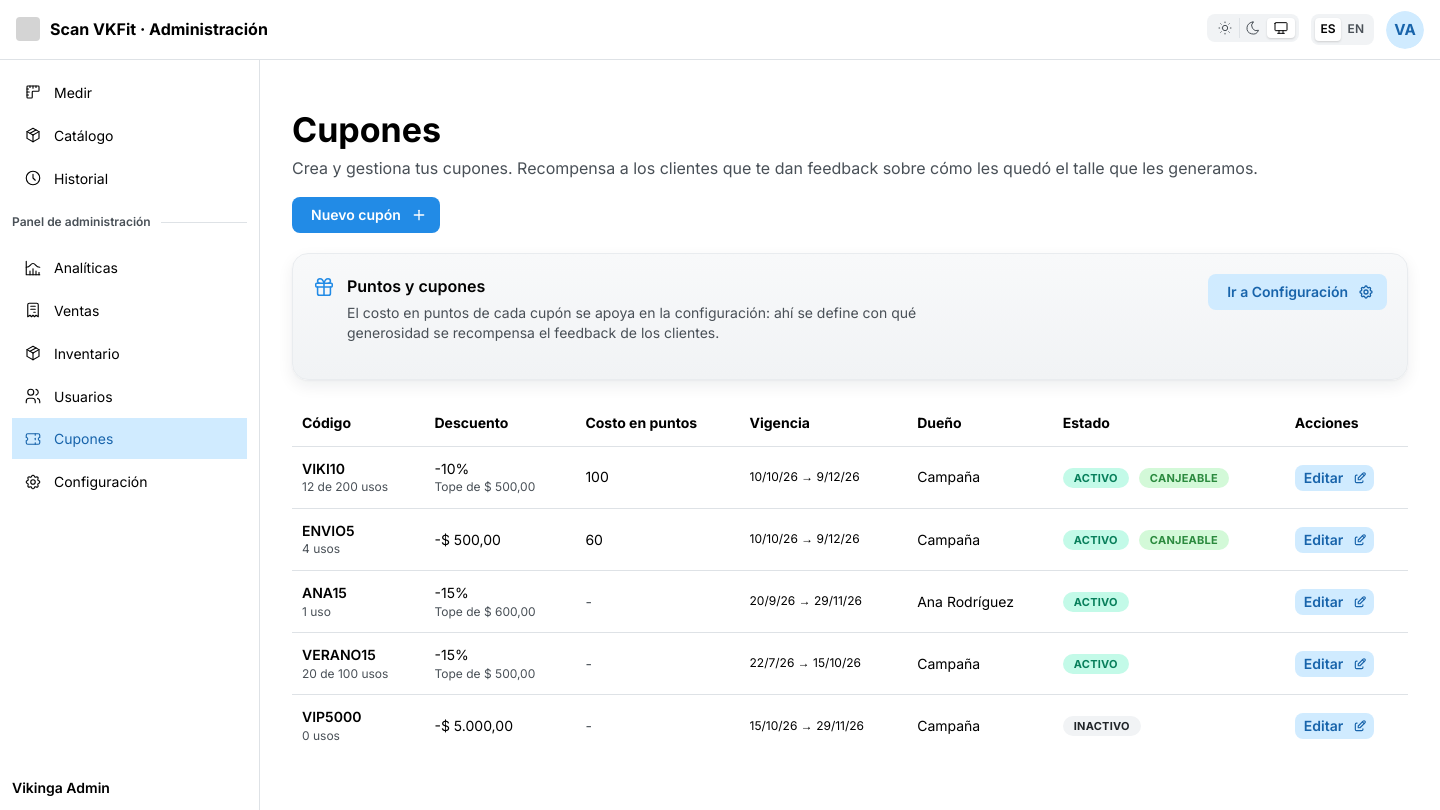
cupones › la edición abre con el código del cupón cargado
Click the button with aria-label "Editar cupón ENVIO5".
click(1334, 540)  # box [1295, 527, 1374, 553]
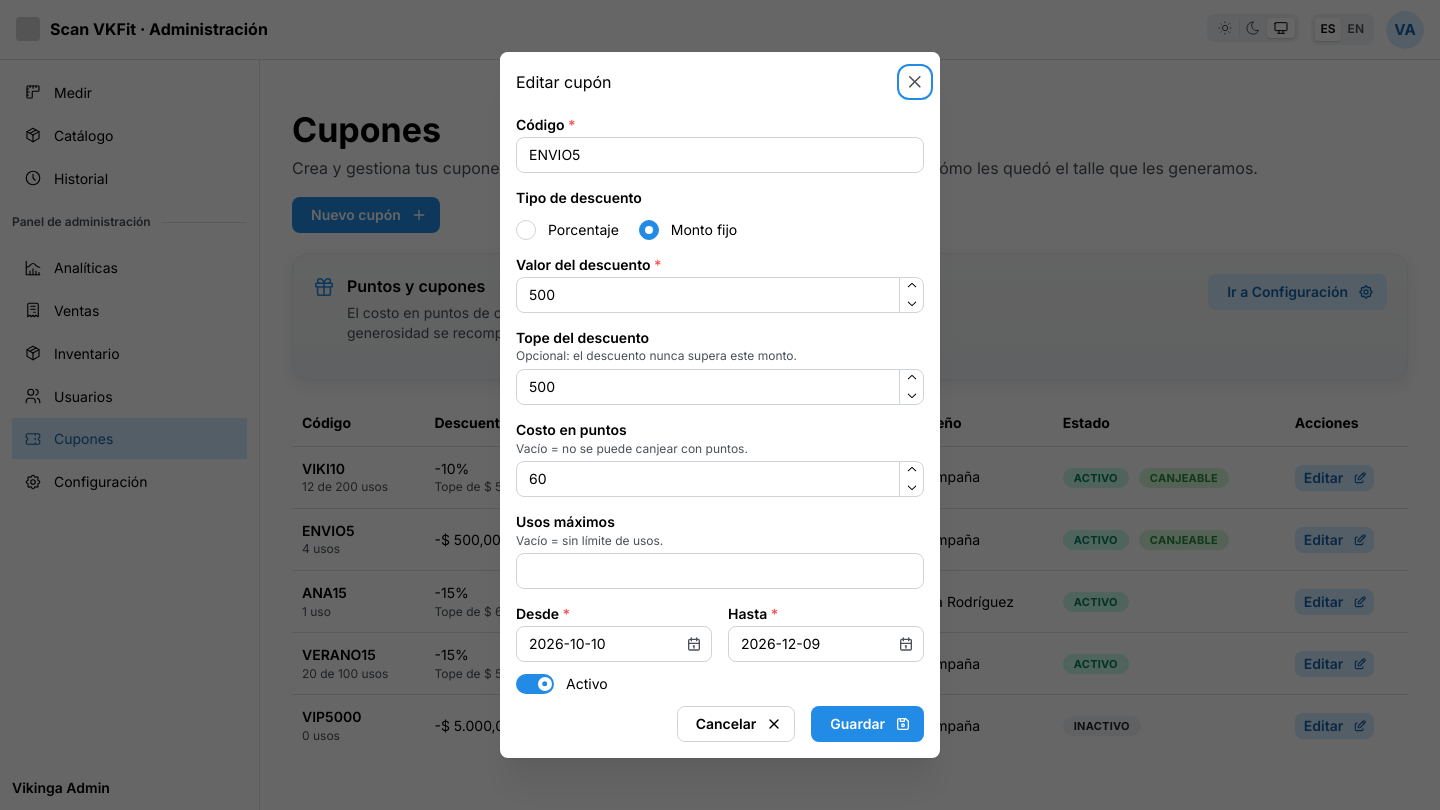
Now the field labelled "Código *" holds "ENVIO5", box [516, 137, 924, 173]
